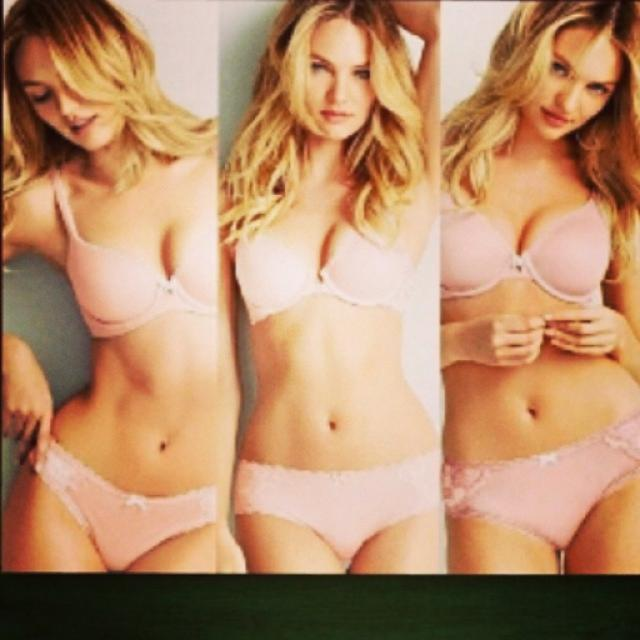closed-mouth: (540, 107, 574, 126), (320, 110, 355, 122)
